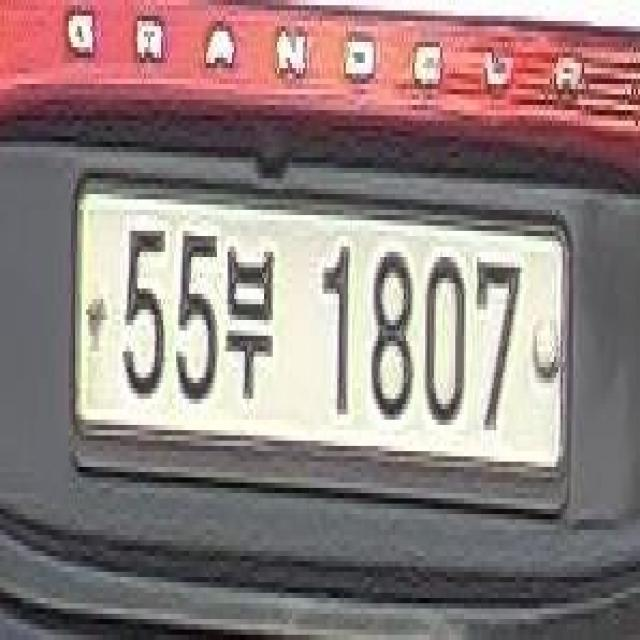0: (422, 247, 470, 430)
1: (316, 226, 360, 418)
5: (118, 214, 168, 398), (173, 218, 221, 400)
7: (472, 247, 526, 433)
8: (366, 234, 416, 418)
bu: (224, 220, 274, 407)
license_plate: (54, 153, 584, 533)
